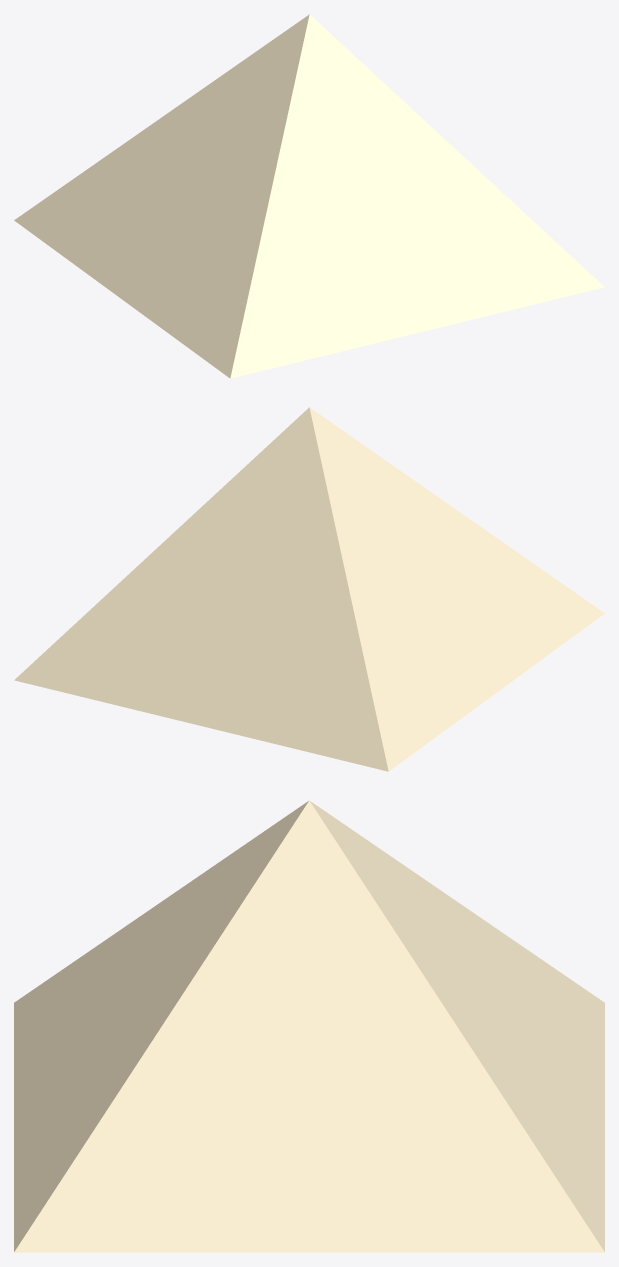
The model's file is giza-queen.glb.
3 views of the same model, one above another, from view 1: azimuth 30°, elevation 25°; view 2: azimuth 150°, elevation 25°; view 3: azimuth 270°, elevation 25° (orthographic). The views are drawn at different scales.
Bounding box in the file's own units: 49.5 × 30.25 × 49.5.
